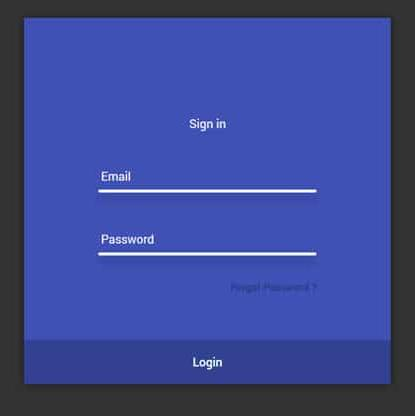button: (18, 336, 393, 391)
field_line: (91, 165, 326, 200), (92, 227, 319, 262)
